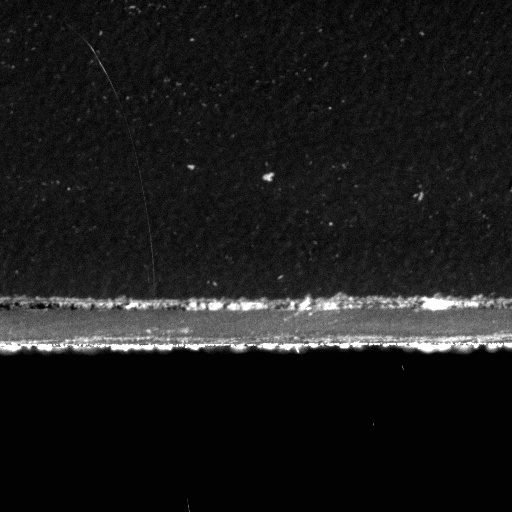jiaofeng: (5, 293, 124, 312)
